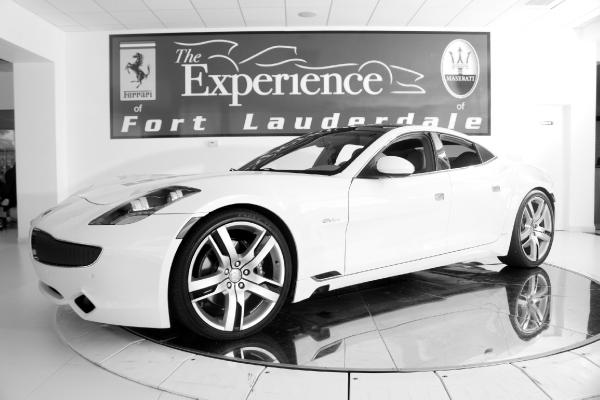car: (30, 125, 558, 342)
